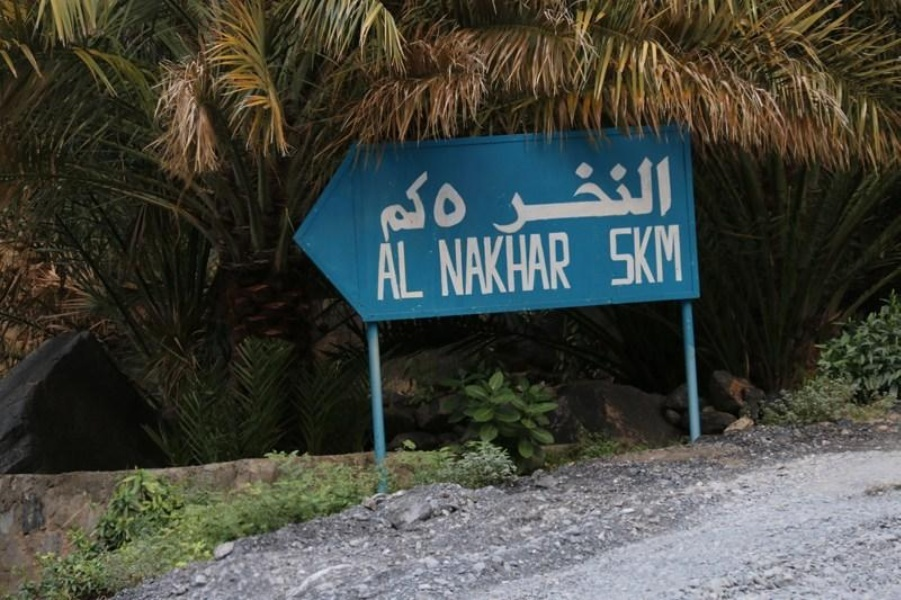text: (497, 152, 512, 237), (513, 152, 528, 237), (529, 152, 544, 237), (545, 152, 560, 237), (561, 152, 576, 237), (577, 152, 592, 237), (593, 152, 608, 237), (609, 152, 624, 237), (625, 152, 640, 237), (641, 152, 656, 237), (657, 152, 672, 237), (385, 168, 400, 244), (401, 168, 416, 244), (417, 168, 432, 244), (433, 168, 448, 244), (449, 168, 464, 244), (449, 231, 464, 299), (465, 231, 480, 299), (481, 231, 496, 299), (497, 231, 512, 299), (513, 231, 528, 299), (529, 231, 544, 299), (545, 231, 560, 299), (561, 231, 576, 299), (609, 223, 624, 288), (625, 223, 640, 288), (641, 223, 656, 288), (657, 223, 672, 288), (434, 231, 448, 299), (385, 239, 400, 302), (401, 239, 416, 302), (465, 168, 477, 244), (374, 168, 384, 244), (673, 223, 684, 288), (488, 152, 496, 237), (417, 239, 426, 302), (378, 239, 384, 302), (673, 152, 674, 237)
